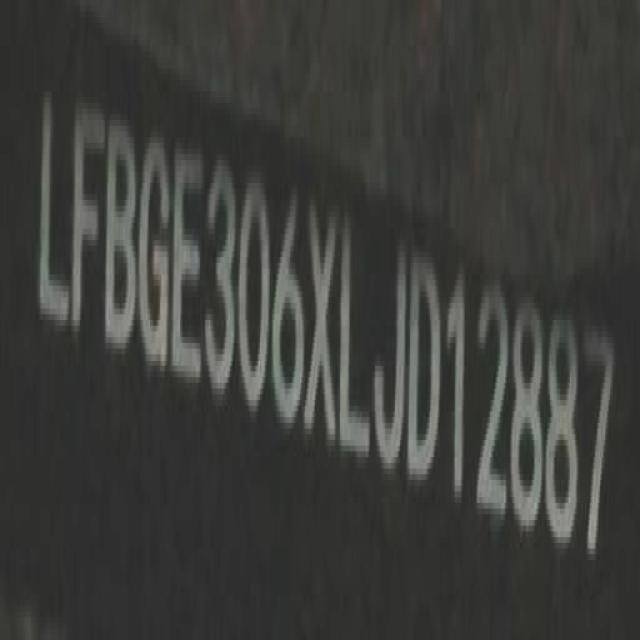0: (237, 168, 270, 420)
1: (448, 267, 473, 512)
2: (477, 284, 509, 530)
3: (205, 154, 239, 402)
6: (273, 182, 307, 436)
7: (582, 328, 614, 563)
8: (543, 311, 581, 553), (511, 295, 547, 538)
B: (105, 104, 138, 360)
D: (407, 248, 442, 496)
E: (172, 145, 206, 394)
F: (70, 97, 105, 353)
G: (140, 126, 173, 376)
J: (372, 220, 410, 500)
L: (36, 88, 73, 339), (342, 216, 372, 468)
X: (304, 192, 340, 470)
